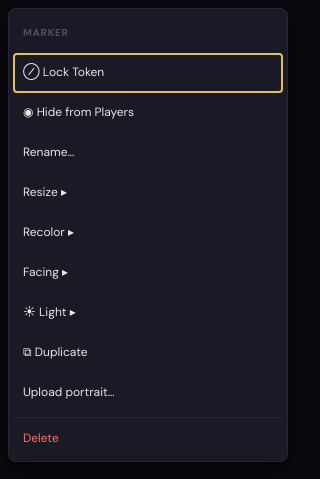
Scenario: keeps rename open during composition or a pending save
This screenshot has width=320, height=479.
Click the button "Rename…" at coordinates (49, 152), box [13, 133, 283, 173]
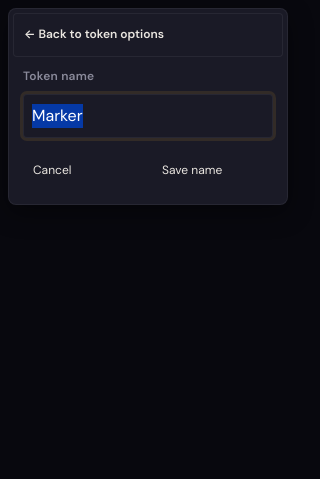
Press Escape in the field labelled "Token name", box [23, 94, 273, 138]
Click the button "Save name" at coordinates (212, 170), box [152, 150, 273, 190]
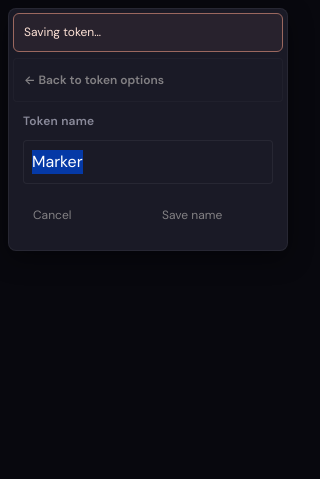
Press Escape
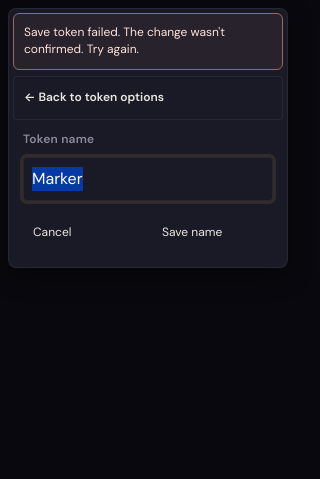
Press Escape in the field labelled "Token name", box [23, 157, 273, 201]
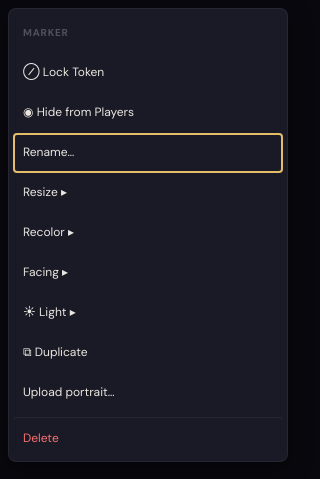
Expected: the message "Save token failed. The change wasn't confirmed. Try again." is gone
